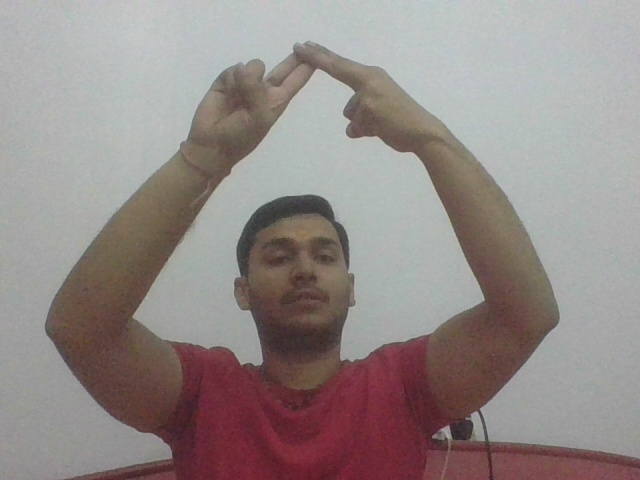F: (187, 40, 430, 149)
